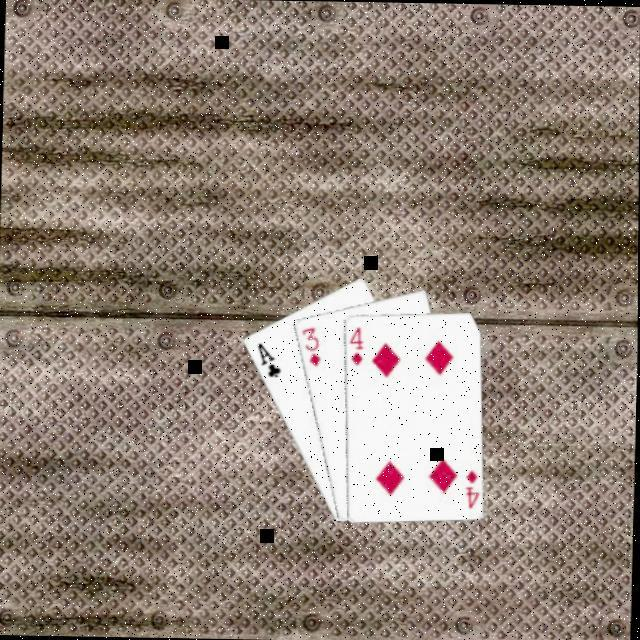3D: (296, 324, 322, 370)
4D: (345, 323, 364, 368), (462, 467, 481, 511)
AC: (252, 339, 284, 382)
